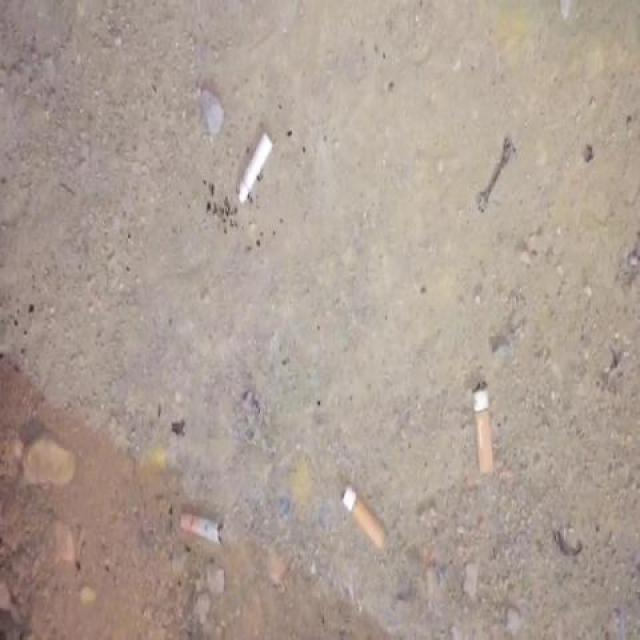non-organic waste: (336, 479, 393, 552), (233, 130, 275, 210), (466, 378, 497, 482), (175, 508, 230, 552)
